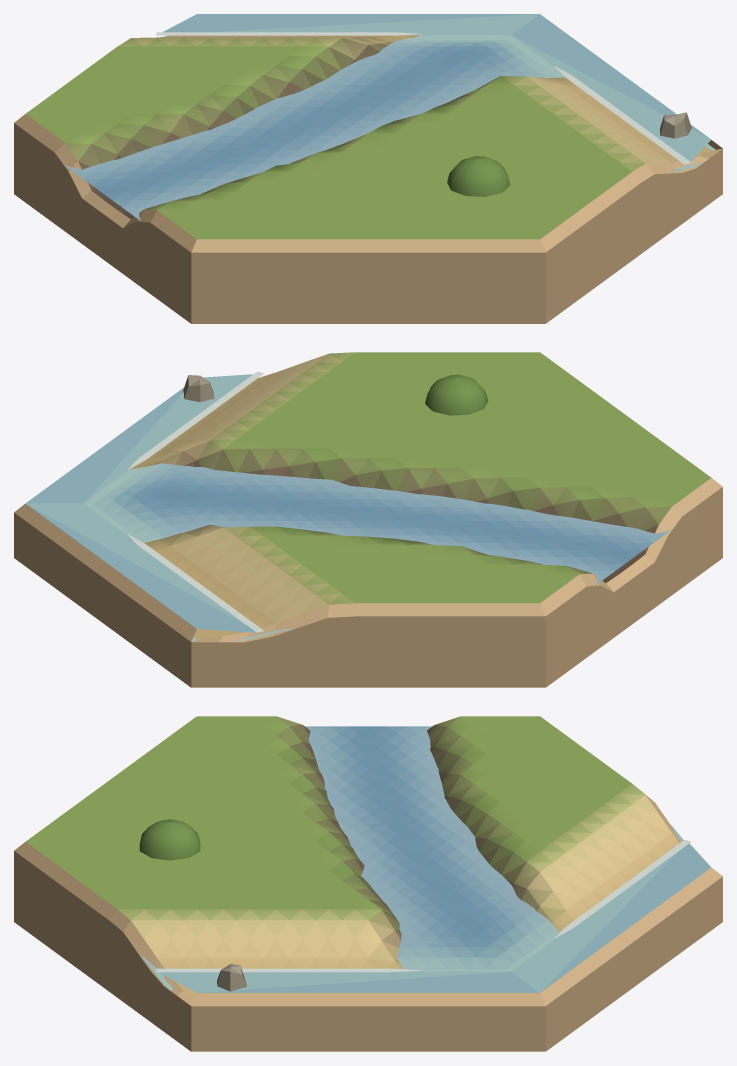
File: estuary_sea2_edge3.fbx
3 views of the same model, one above another, from view 1: azimuth 30°, elevation 25°; view 2: azimuth 150°, elevation 25°; view 3: azimuth 270°, elevation 25° (orthographic).
Visible parts, largest first — view 1: estuary_sea2_edge3; view 2: estuary_sea2_edge3; view 3: estuary_sea2_edge3.
Boxes of the visible parts, box(x1,y1,x2,y2) form: estuary_sea2_edge3: box(14, 14, 722, 323); estuary_sea2_edge3: box(14, 352, 722, 687); estuary_sea2_edge3: box(14, 716, 722, 1051).
Bounding box in the file's own units: 1.73 × 0.3265 × 2.
